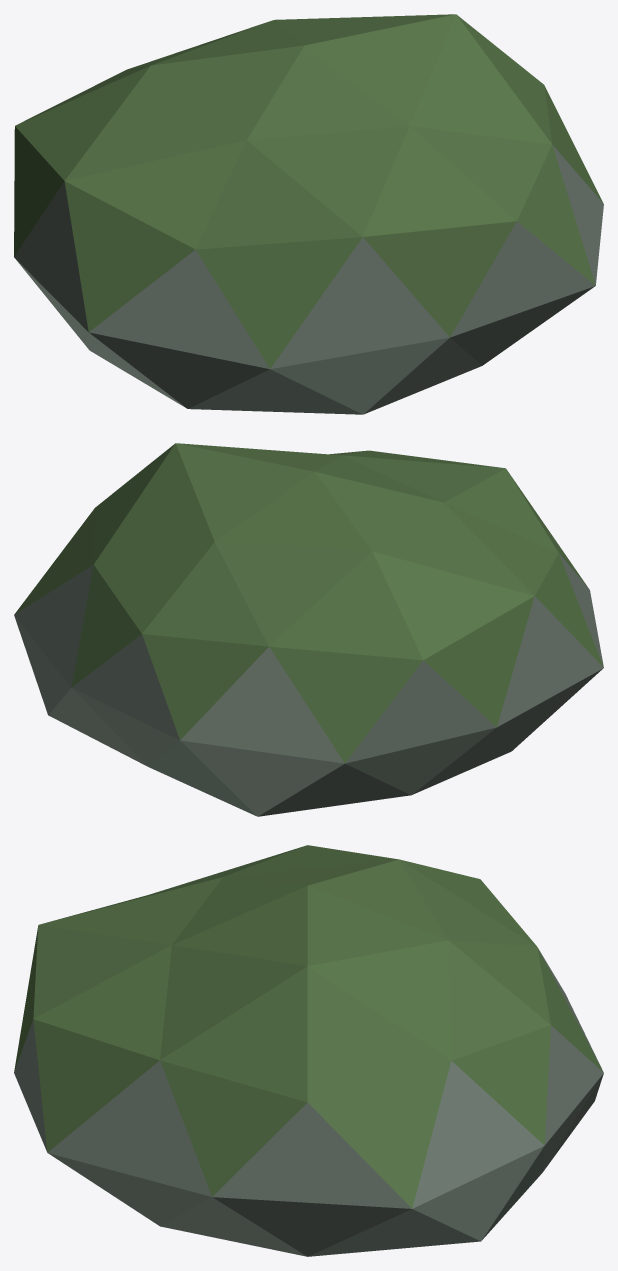
The model's file is moss_rock.glb.
The picture shows the model from 3 angles, top to bottom: view 1: azimuth 30°, elevation 25°; view 2: azimuth 150°, elevation 25°; view 3: azimuth 270°, elevation 25°; orthographic projection. The views are drawn at different scales.
Parts seen in each view (by area): view 1: Moss_Rock; view 2: Moss_Rock; view 3: Moss_Rock.
Boxes of the visible parts, bbox=[...] form: Moss_Rock: bbox=[14, 14, 603, 414]; Moss_Rock: bbox=[14, 443, 603, 816]; Moss_Rock: bbox=[14, 845, 603, 1256].
Bounding box in the file's own units: 2.07 × 0.9233 × 1.94.
